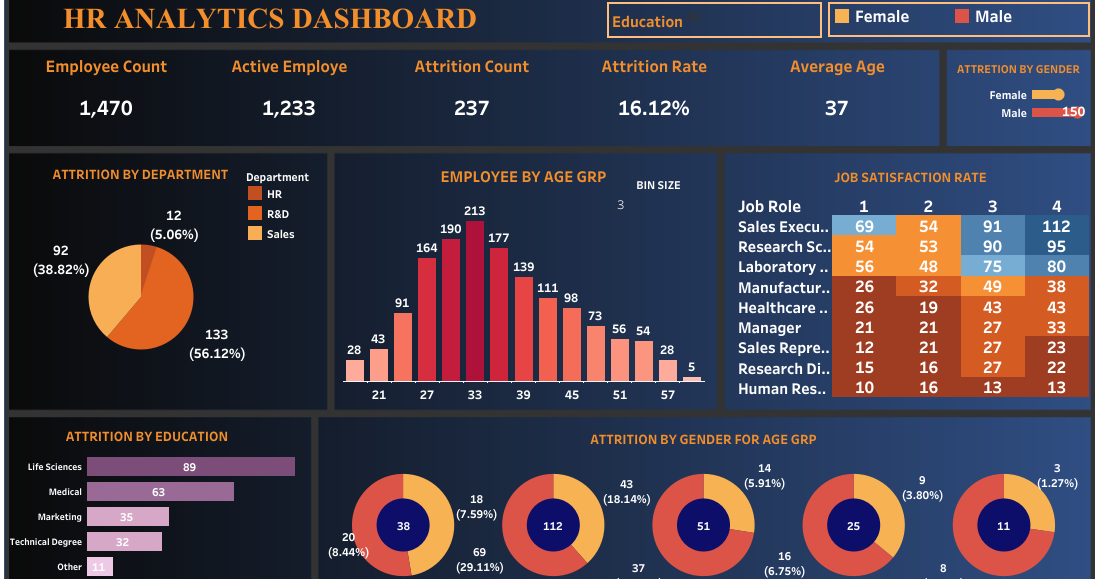

The dashboard page shown, as its layout file describes it:
{"tool":"tableau","page":{"name":"HR Analysis Dashboard","canvas":[1100,580],"ordinal":0},"visuals":[{"type":"filter","title":"EMPLOYEE BY AGE GRP","param":"[federated.0h3ez8j1cncs1o1dydb6k1irzg8t].[none:Education:nk]","box":[607,2,215,36]},{"type":"legend","title":"ATTRETION BY GENDER","param":"[federated.0h3ez8j1cncs1o1dydb6k1irzg8t].[none:Gender:nk]","box":[828,2,262,35]},{"type":"worksheet","title":"KPIS","mark":"Automatic","box":[15,55,914,85]},{"type":"worksheet","title":"ATTRETION BY GENDER","mark":"Automatic","rows":["Gender"],"cols":["Calculation_490047976241442816","Calculation_490047976241442816"],"box":[952,55,134,81]},{"type":"worksheet","title":"EMPLOYEE BY AGE GRP","mark":"Automatic","rows":["Employee Count"],"cols":["Age (bin)"],"box":[343,159,361,244]},{"type":"worksheet","title":"JOB SATISFACTION RATE","mark":"Square","rows":["Job Role"],"cols":["Job Satisfaction"],"box":[732,161,357,236]},{"type":"legend","title":"ATTRITION BY DEPARTMENT","param":"[federated.0h3ez8j1cncs1o1dydb6k1irzg8t].[none:Department:nk]","box":[245,167,76,79]},{"type":"parameter","param":"[Parameters].[Parameter 1]","box":[615,176,87,53]}]}

Visuals, with their boxes in screenshot pixels (x1, y1, x2, y2), scaled from the page's 1100x580 canvas onto the 1099x579 screenshot:
"EMPLOYEE BY AGE GRP" filter: {"left": 606, "top": 2, "right": 821, "bottom": 38}
"ATTRETION BY GENDER" legend: {"left": 827, "top": 2, "right": 1089, "bottom": 37}
"KPIS" worksheet: {"left": 15, "top": 55, "right": 928, "bottom": 140}
"ATTRETION BY GENDER" worksheet: {"left": 951, "top": 55, "right": 1085, "bottom": 136}
"EMPLOYEE BY AGE GRP" worksheet: {"left": 343, "top": 159, "right": 703, "bottom": 402}
"JOB SATISFACTION RATE" worksheet (Square marks): {"left": 731, "top": 161, "right": 1088, "bottom": 396}
"ATTRITION BY DEPARTMENT" legend: {"left": 245, "top": 167, "right": 321, "bottom": 246}
parameter: {"left": 614, "top": 176, "right": 701, "bottom": 229}
